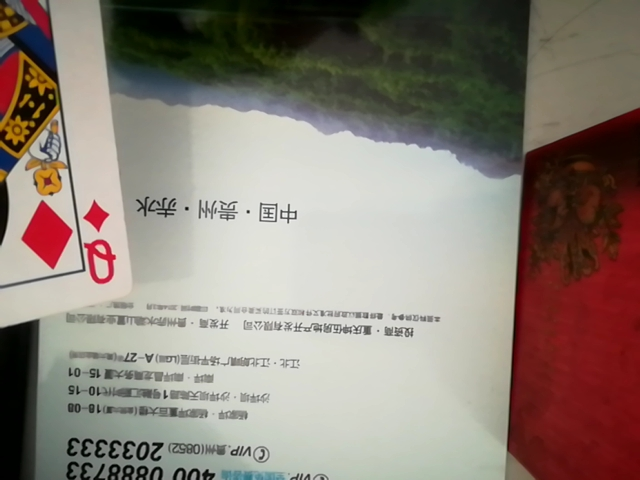fk q: (0, 0, 133, 346)
